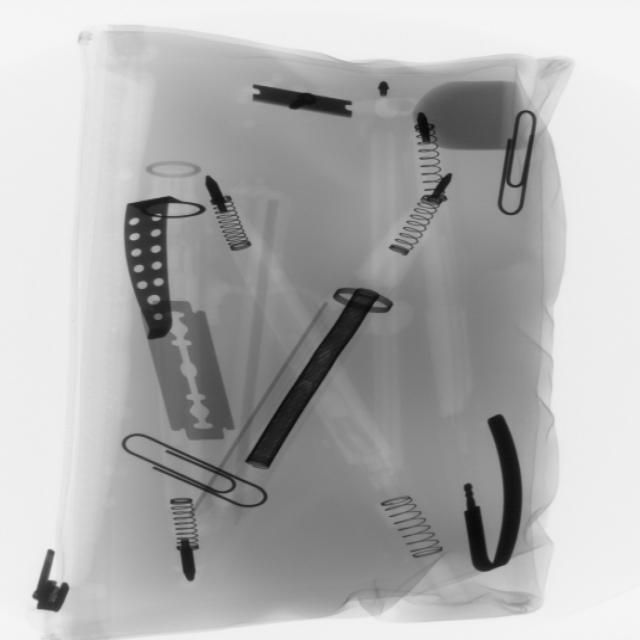BLADE: (140, 291, 243, 455)
